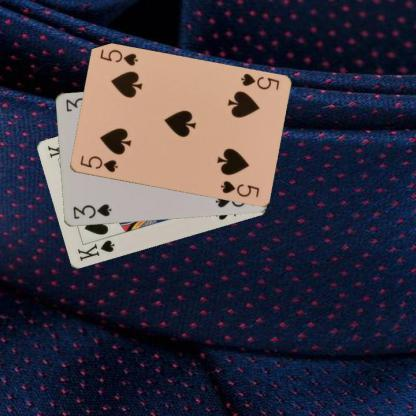3s: (70, 202, 113, 220)
5s: (238, 70, 280, 92), (77, 153, 119, 174)
Ks: (75, 237, 116, 263)
